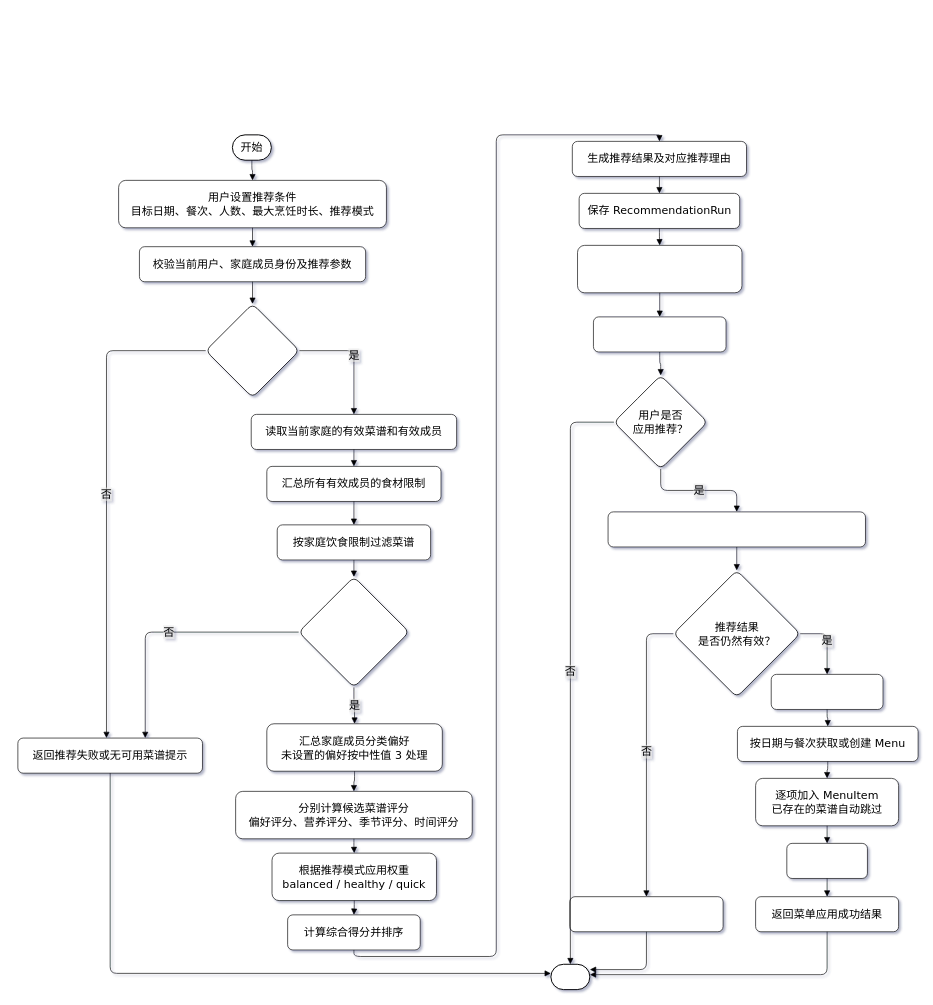
Image size: 933x1005. Some labels were removed from this diagram. Here are the shapes that lost their labels. From the top down, the box of each, then its label:
(577, 245, 742, 293): 保存 RecommendationItem 菜谱、得分、推荐理由
(205, 303, 299, 398): 参数与身份 是否合法？
(593, 316, 726, 352): 向用户展示推荐结果
(607, 511, 865, 547): 重新校验推荐运行、当前成员、家庭及菜谱状态
(298, 576, 409, 687): 是否存在 可推荐菜谱？
(771, 674, 883, 709): 开启数据库事务
(786, 843, 867, 878): 提交事务
(569, 896, 723, 932): 回滚事务并返回失效提示
(550, 963, 590, 990): 结束
